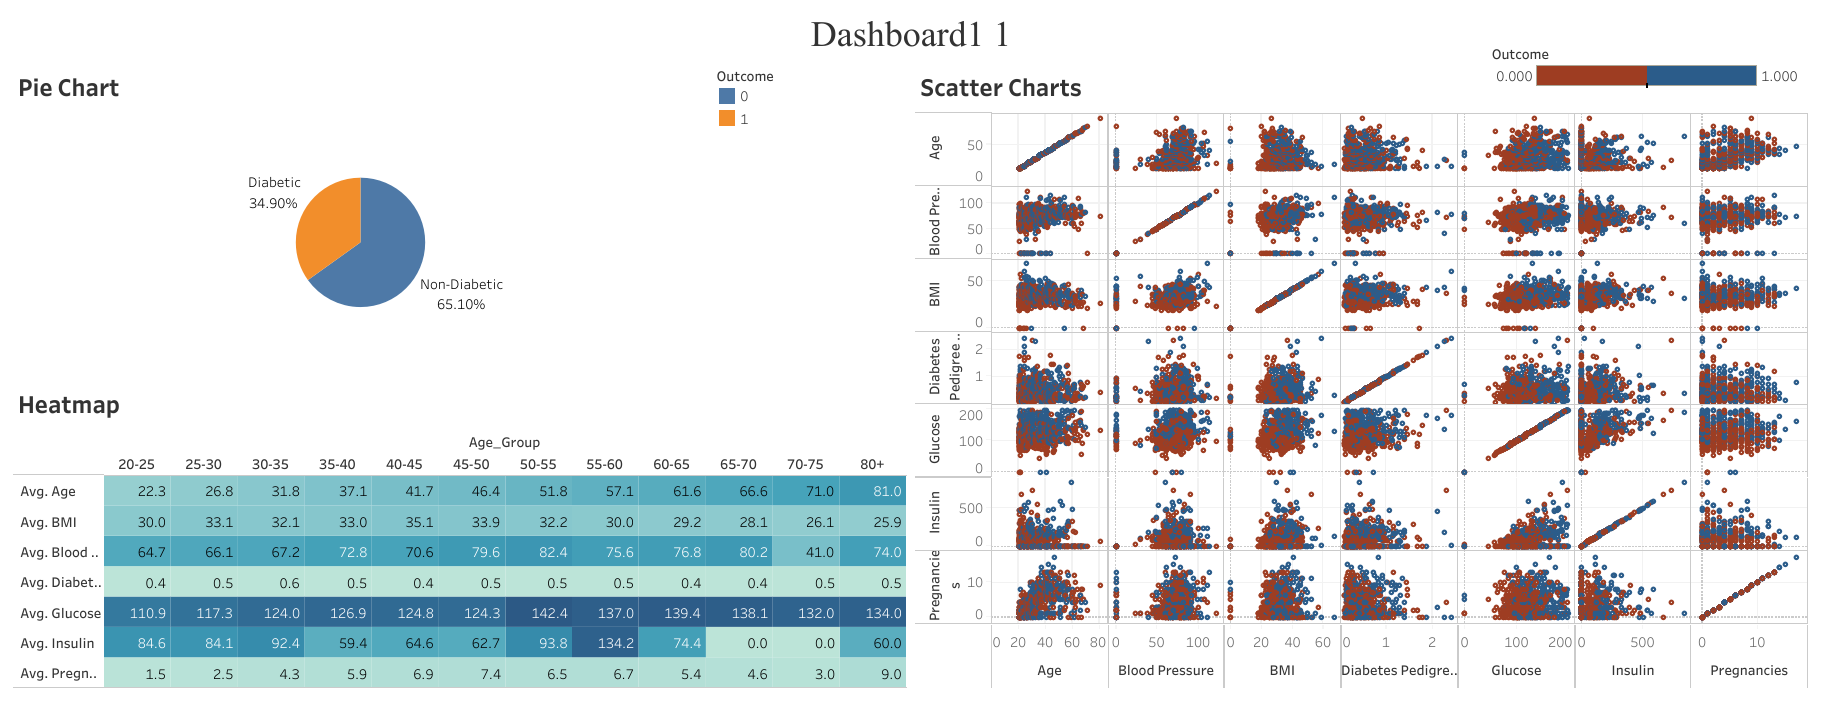

The page's visual inventory and layout, read from the dashboard file:
{"tool":"tableau","page":{"name":"Dashboard1 ","canvas":[1000,1000],"units":"permille","ordinal":2},"visuals":[{"type":"worksheet","box":[0,0,1000,1000]},{"type":"worksheet","param":"vert","box":[4.9,9.3,990.1,981.4]},{"type":"worksheet","box":[4.9,9.3,990.1,61.6]},{"type":"worksheet","param":"vert","box":[816.1,48.8,175.9,88.4]},{"type":"worksheet","title":"ScatterPlots","mark":"Automatic","rows":["Age","BloodPressure","BMI","DiabetesPedigreeFunction","Glucose","Insulin","Pregnancies"],"cols":["Age","BloodPressure","BMI","DiabetesPedigreeFunction","Glucose","Insulin","Pregnancies"],"param":"[federated.0n1z64w0ic4gnw1goietv005ucen].[sum:Outcome:qk]","box":[816.1,48.8,175.9,84.9]},{"type":"worksheet","param":"horz","box":[4.9,70.9,990.1,919.8]},{"type":"worksheet","box":[4.9,70.9,990.1,919.8]},{"type":"worksheet","title":"PieChart","mark":"Pie","box":[4.9,70.9,385.3,459.9]},{"type":"worksheet","title":"PieChart","mark":"Pie","param":"[federated.0n1z64w0ic4gnw1goietv005ucen].[none:Outcome:ok]","box":[390.2,70.9,109.7,459.9]},{"type":"worksheet","title":"ScatterPlots","mark":"Automatic","rows":["Age","BloodPressure","BMI","DiabetesPedigreeFunction","Glucose","Insulin","Pregnancies"],"cols":["Age","BloodPressure","BMI","DiabetesPedigreeFunction","Glucose","Insulin","Pregnancies"],"box":[500,70.9,495.1,919.8]},{"type":"worksheet","title":"Heatmap","mark":"Square","cols":["Calculation_2054767383766007817"],"box":[4.9,530.8,495,459.9]}]}

Visuals, with their boxes on the dashboard's canvas, which has no fixed pixel size, in thousandths of its width and height (x1, y1, x2, y2). These are canvas units, not pixel positions in the 1821x701 screenshot, which may show the page scaled, cropped or inside an application window:
worksheet: <box>0,0,1000,1000</box>
worksheet: <box>5,9,995,991</box>
worksheet: <box>5,9,995,71</box>
worksheet: <box>816,49,992,137</box>
"ScatterPlots" worksheet: <box>816,49,992,134</box>
worksheet: <box>5,71,995,991</box>
worksheet: <box>5,71,995,991</box>
"PieChart" worksheet (Pie marks): <box>5,71,390,531</box>
"PieChart" worksheet (Pie marks): <box>390,71,500,531</box>
"ScatterPlots" worksheet: <box>500,71,995,991</box>
"Heatmap" worksheet (Square marks): <box>5,531,500,991</box>
